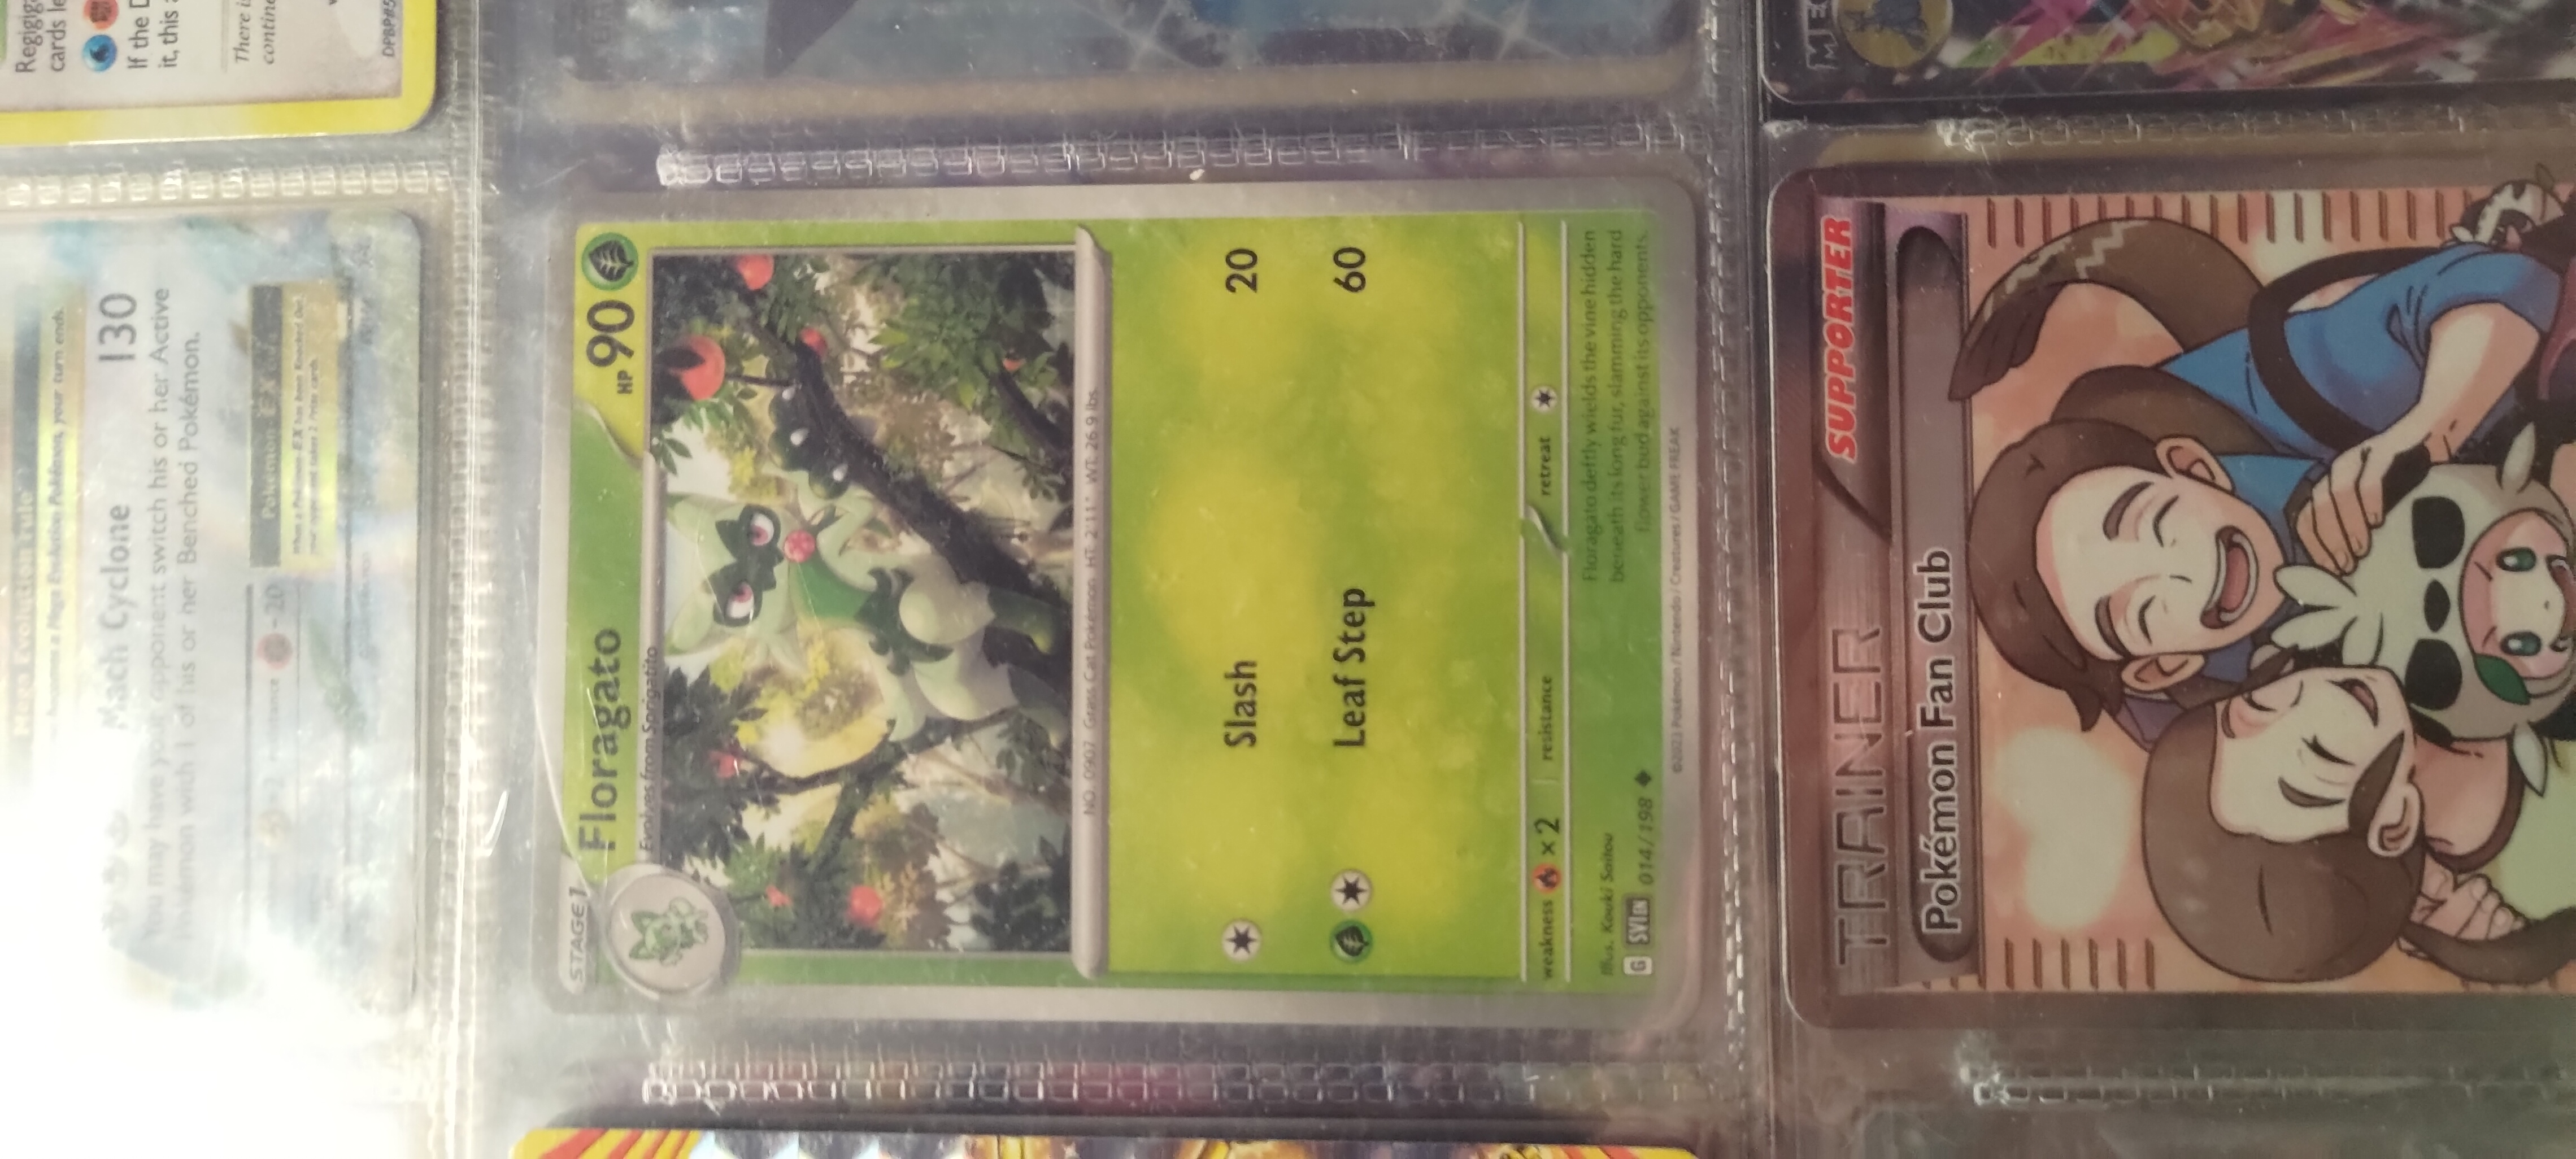pokemon_card: (498, 164, 1736, 1072)
